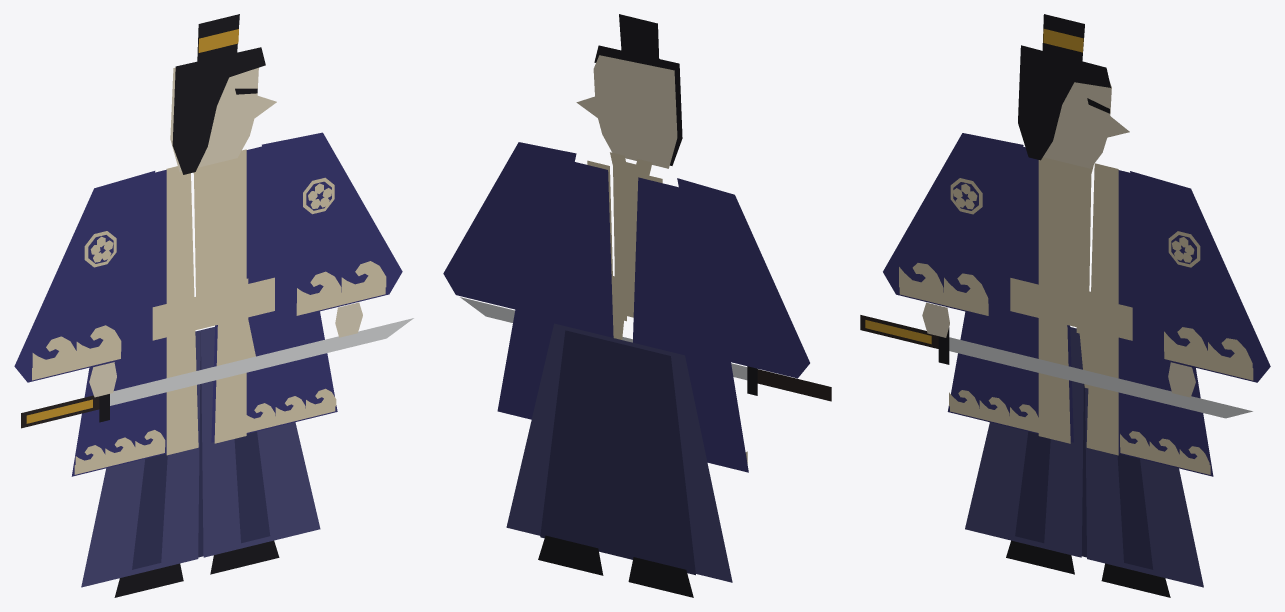
Rendered from samurai-v1.glb.
3 views of the same model, side by side, from view 1: azimuth 30°, elevation 25°; view 2: azimuth 150°, elevation 25°; view 3: azimuth 330°, elevation 25° (orthographic). The views are drawn at different scales.
Visible parts, largest first — view 1: sleeve_R, sleeve_L, hakama_L, robe_L, hakama_R, robe_R, hair, lapel_R, sword_paper, obi, lapel_L, face (+7 smaller); view 2: hakama_back, robe_R, robe_L, sleeve_R, sleeve_L, face, hakama_R, hakama_L, kimono, hair, sword_paper, feet_R (+1 smaller); view 3: sleeve_L, sleeve_R, hakama_R, robe_R, robe_L, hakama_L, hair, lapel_L, sword_paper, lapel_R, obi, face (+7 smaller).
Part boxes in pixels (left/top/right/bottom): sleeve_R: left=14, top=171, right=155, bottom=382; sleeve_L: left=262, top=132, right=402, bottom=317; hakama_L: left=201, top=327, right=320, bottom=557; robe_L: left=211, top=146, right=337, bottom=442; hakama_R: left=81, top=330, right=200, bottom=587; robe_R: left=71, top=169, right=166, bottom=476; hair: left=172, top=14, right=265, bottom=174; lapel_R: left=166, top=166, right=198, bottom=455; sword_paper: left=21, top=318, right=413, bottom=428; obi: left=152, top=277, right=274, bottom=380; lapel_L: left=214, top=149, right=246, bottom=443; face: left=170, top=67, right=276, bottom=171; hakama_back: left=540, top=330, right=695, bottom=575; robe_R: left=633, top=177, right=748, bottom=472; robe_L: left=497, top=154, right=613, bottom=419; sleeve_R: left=677, top=178, right=809, bottom=378; sleeve_L: left=443, top=142, right=576, bottom=309; face: left=576, top=55, right=677, bottom=168; hakama_R: left=619, top=339, right=732, bottom=582; hakama_L: left=506, top=323, right=619, bottom=535; kimono: left=613, top=159, right=647, bottom=312; hair: left=594, top=14, right=682, bottom=165; sword_paper: left=460, top=297, right=831, bottom=401; feet_R: left=628, top=557, right=693, bottom=597; sleeve_L: left=1130, top=171, right=1270, bottom=382; sleeve_R: left=883, top=133, right=1023, bottom=317; hakama_R: left=965, top=327, right=1083, bottom=557; robe_R: left=947, top=147, right=1073, bottom=442; robe_L: left=1118, top=170, right=1213, bottom=476; hakama_L: left=1085, top=388, right=1203, bottom=587; hair: left=1018, top=14, right=1110, bottom=160; lapel_L: left=1086, top=163, right=1118, bottom=455; sword_paper: left=860, top=315, right=1252, bottom=418; lapel_R: left=1038, top=157, right=1070, bottom=443; obi: left=1010, top=278, right=1132, bottom=390; face: left=1043, top=82, right=1129, bottom=168.
Size of the model in its own units: 2.98 by 4.14 by 0.38.
